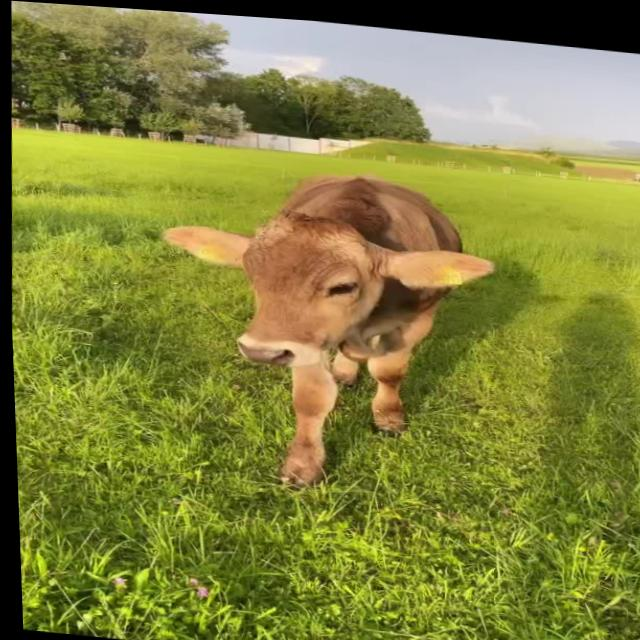cowFace: (134, 194, 514, 383)
